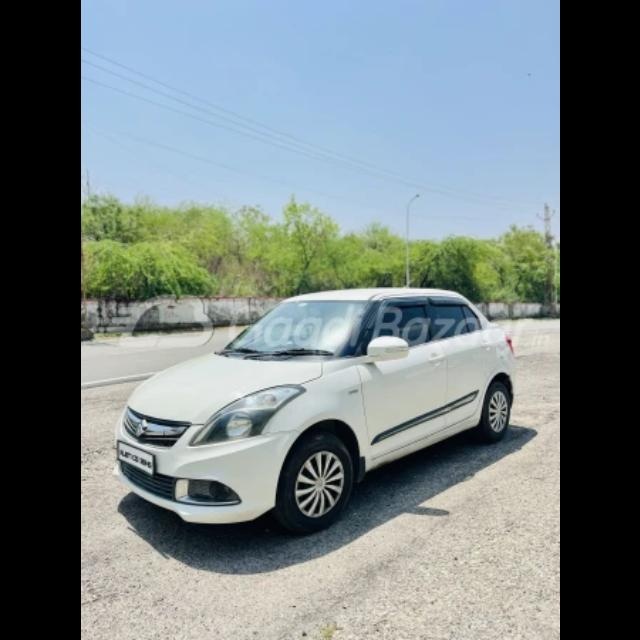vehicles: (103, 288, 521, 542)
